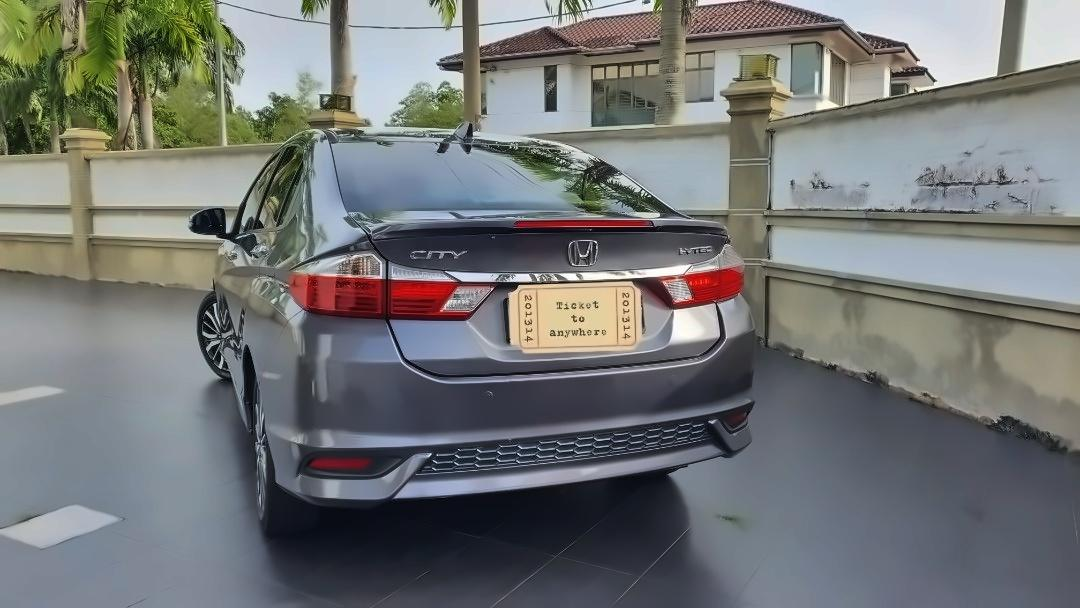Car boot: (365, 199, 728, 380)
Rear bumper: (255, 338, 762, 511)
Rear light - -L-: (286, 241, 495, 323)
Rear light - -R-: (639, 245, 750, 308)
Side mirror - -L-: (183, 205, 232, 242)
